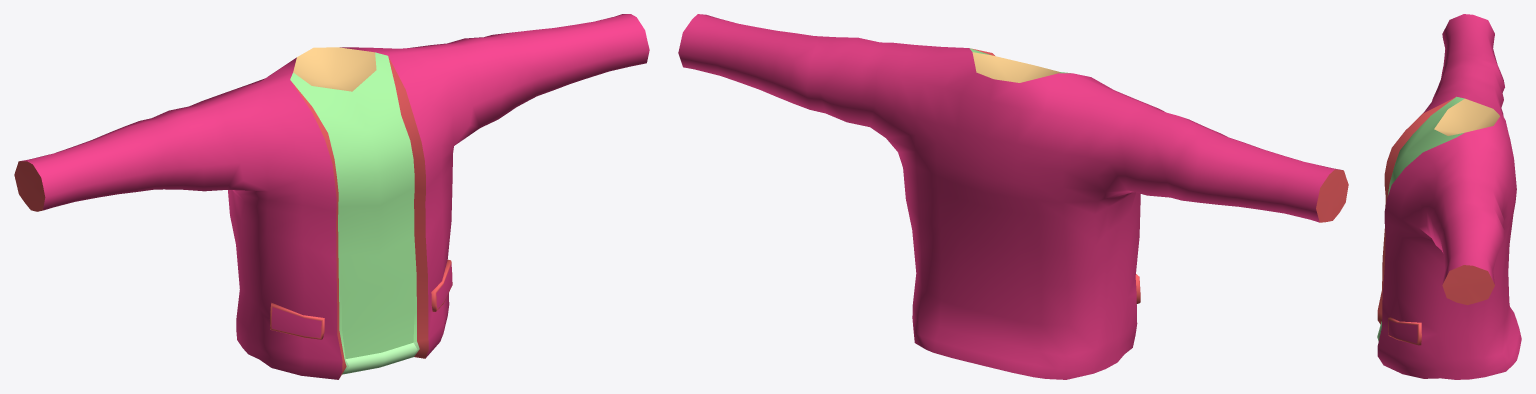
Rendered from Torso_14_03.fbx.
3 renders of one model, left to right at view 1: azimuth 30°, elevation 25°; view 2: azimuth 150°, elevation 25°; view 3: azimuth 270°, elevation 25°, orthographic. The views are drawn at different scales.
Visible parts, largest first — view 1: Torso_14_03; view 2: Torso_14_03; view 3: Torso_14_03.
Boxes of the visible parts, x1,y1,x2,y2 form: Torso_14_03: (14,14,649,379); Torso_14_03: (678,14,1348,379); Torso_14_03: (1377,14,1521,379).
Bounding box in the file's own units: 118 × 50.73 × 28.69.
